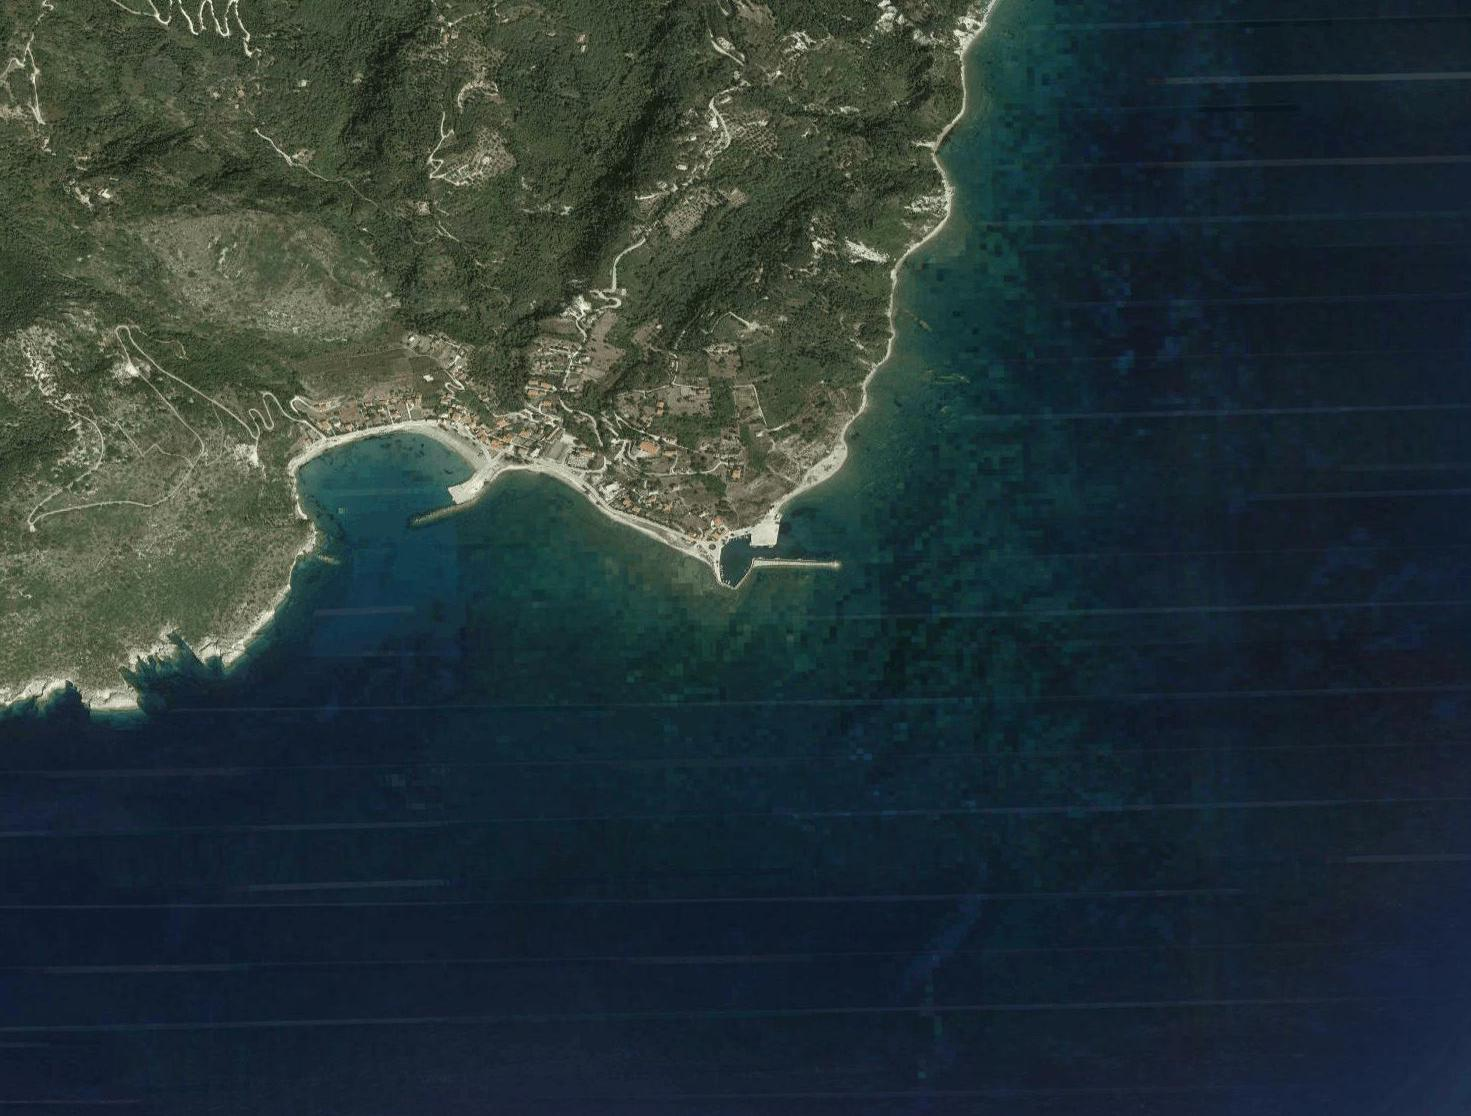harbor: (697, 511, 847, 606)
